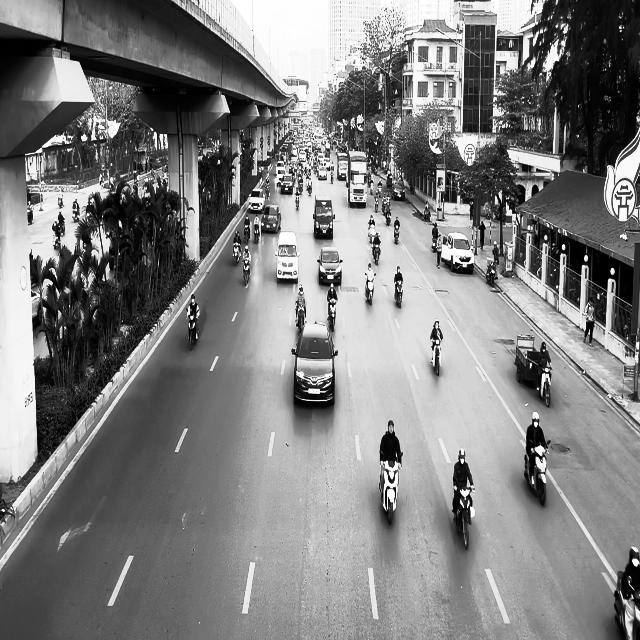bus: (347, 150, 368, 207)
car: (292, 321, 338, 406), (441, 231, 475, 274), (275, 231, 300, 283), (317, 247, 343, 286), (313, 196, 335, 239), (261, 205, 281, 232), (248, 188, 266, 212), (392, 180, 405, 200), (281, 174, 293, 194)
motorbike: (524, 439, 551, 506), (379, 452, 403, 525), (454, 484, 476, 549), (537, 363, 552, 407), (186, 308, 200, 350), (431, 338, 443, 376), (365, 273, 376, 305), (295, 301, 306, 332), (327, 297, 337, 330), (486, 258, 497, 285), (394, 280, 404, 308), (232, 241, 242, 265), (243, 260, 251, 288), (385, 207, 392, 226), (253, 223, 260, 242), (394, 224, 400, 244), (244, 225, 250, 244), (295, 191, 300, 210)
